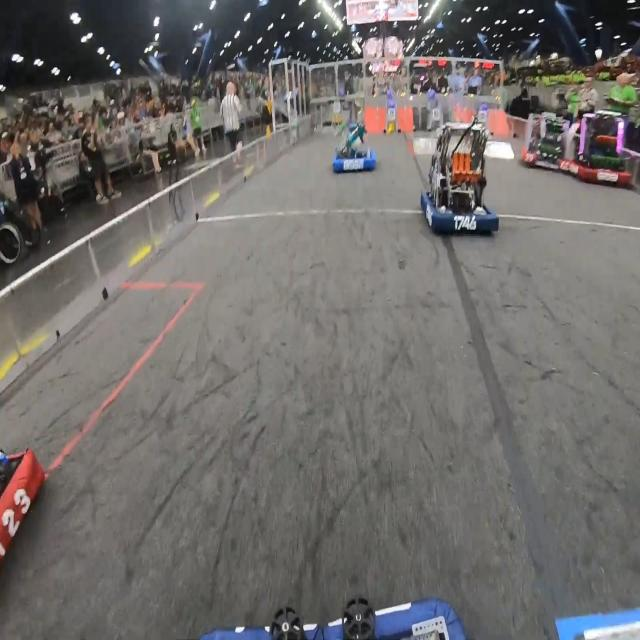robot: (419, 117, 499, 235), (0, 439, 47, 566), (571, 106, 632, 185), (521, 110, 571, 172), (332, 118, 376, 176)
